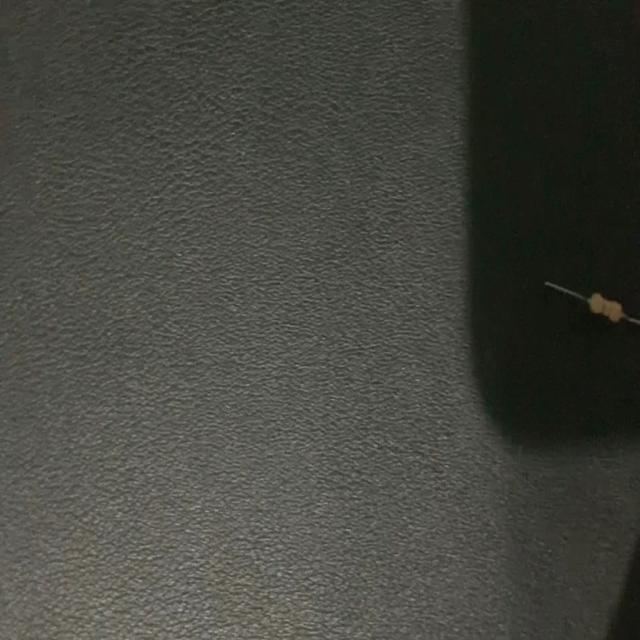resistor: (541, 255, 640, 329)
